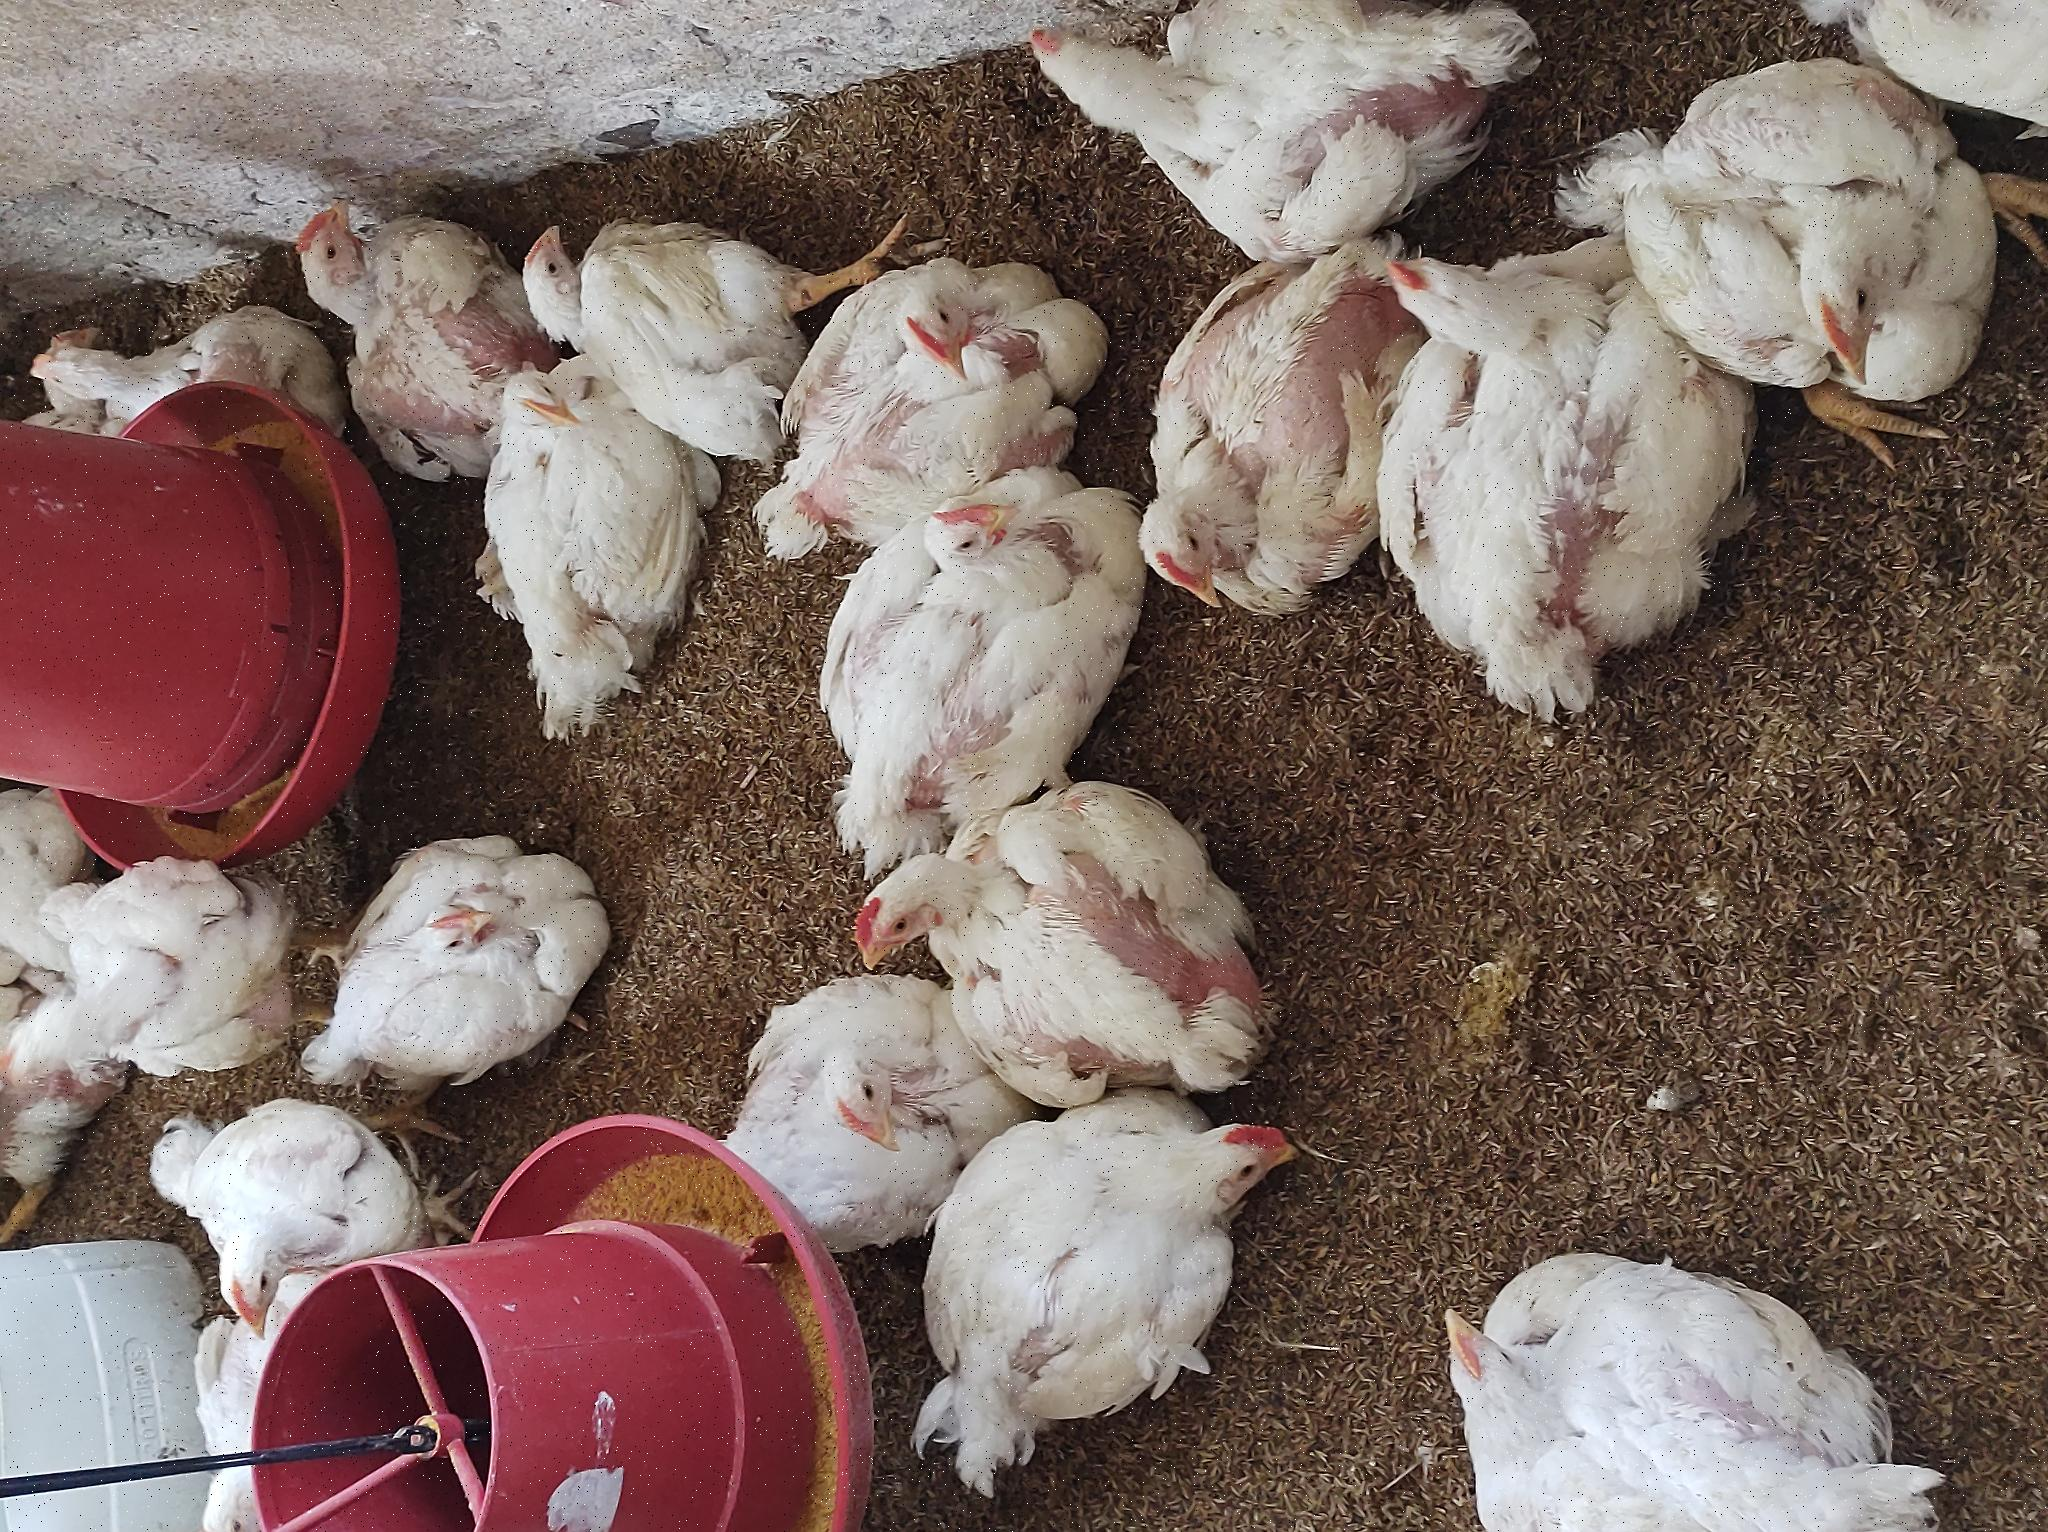Pollos: (31, 895, 426, 1308), (412, 850, 726, 1303), (1256, 1003, 1533, 1514), (682, 755, 1046, 1141), (866, 1083, 1282, 1402), (970, 750, 1297, 1096), (273, 661, 582, 983), (808, 446, 1171, 705), (771, 1352, 1282, 1532), (439, 275, 705, 612), (402, 5, 698, 266), (1068, 513, 1327, 800), (1068, 275, 1350, 517), (203, 145, 439, 431)
